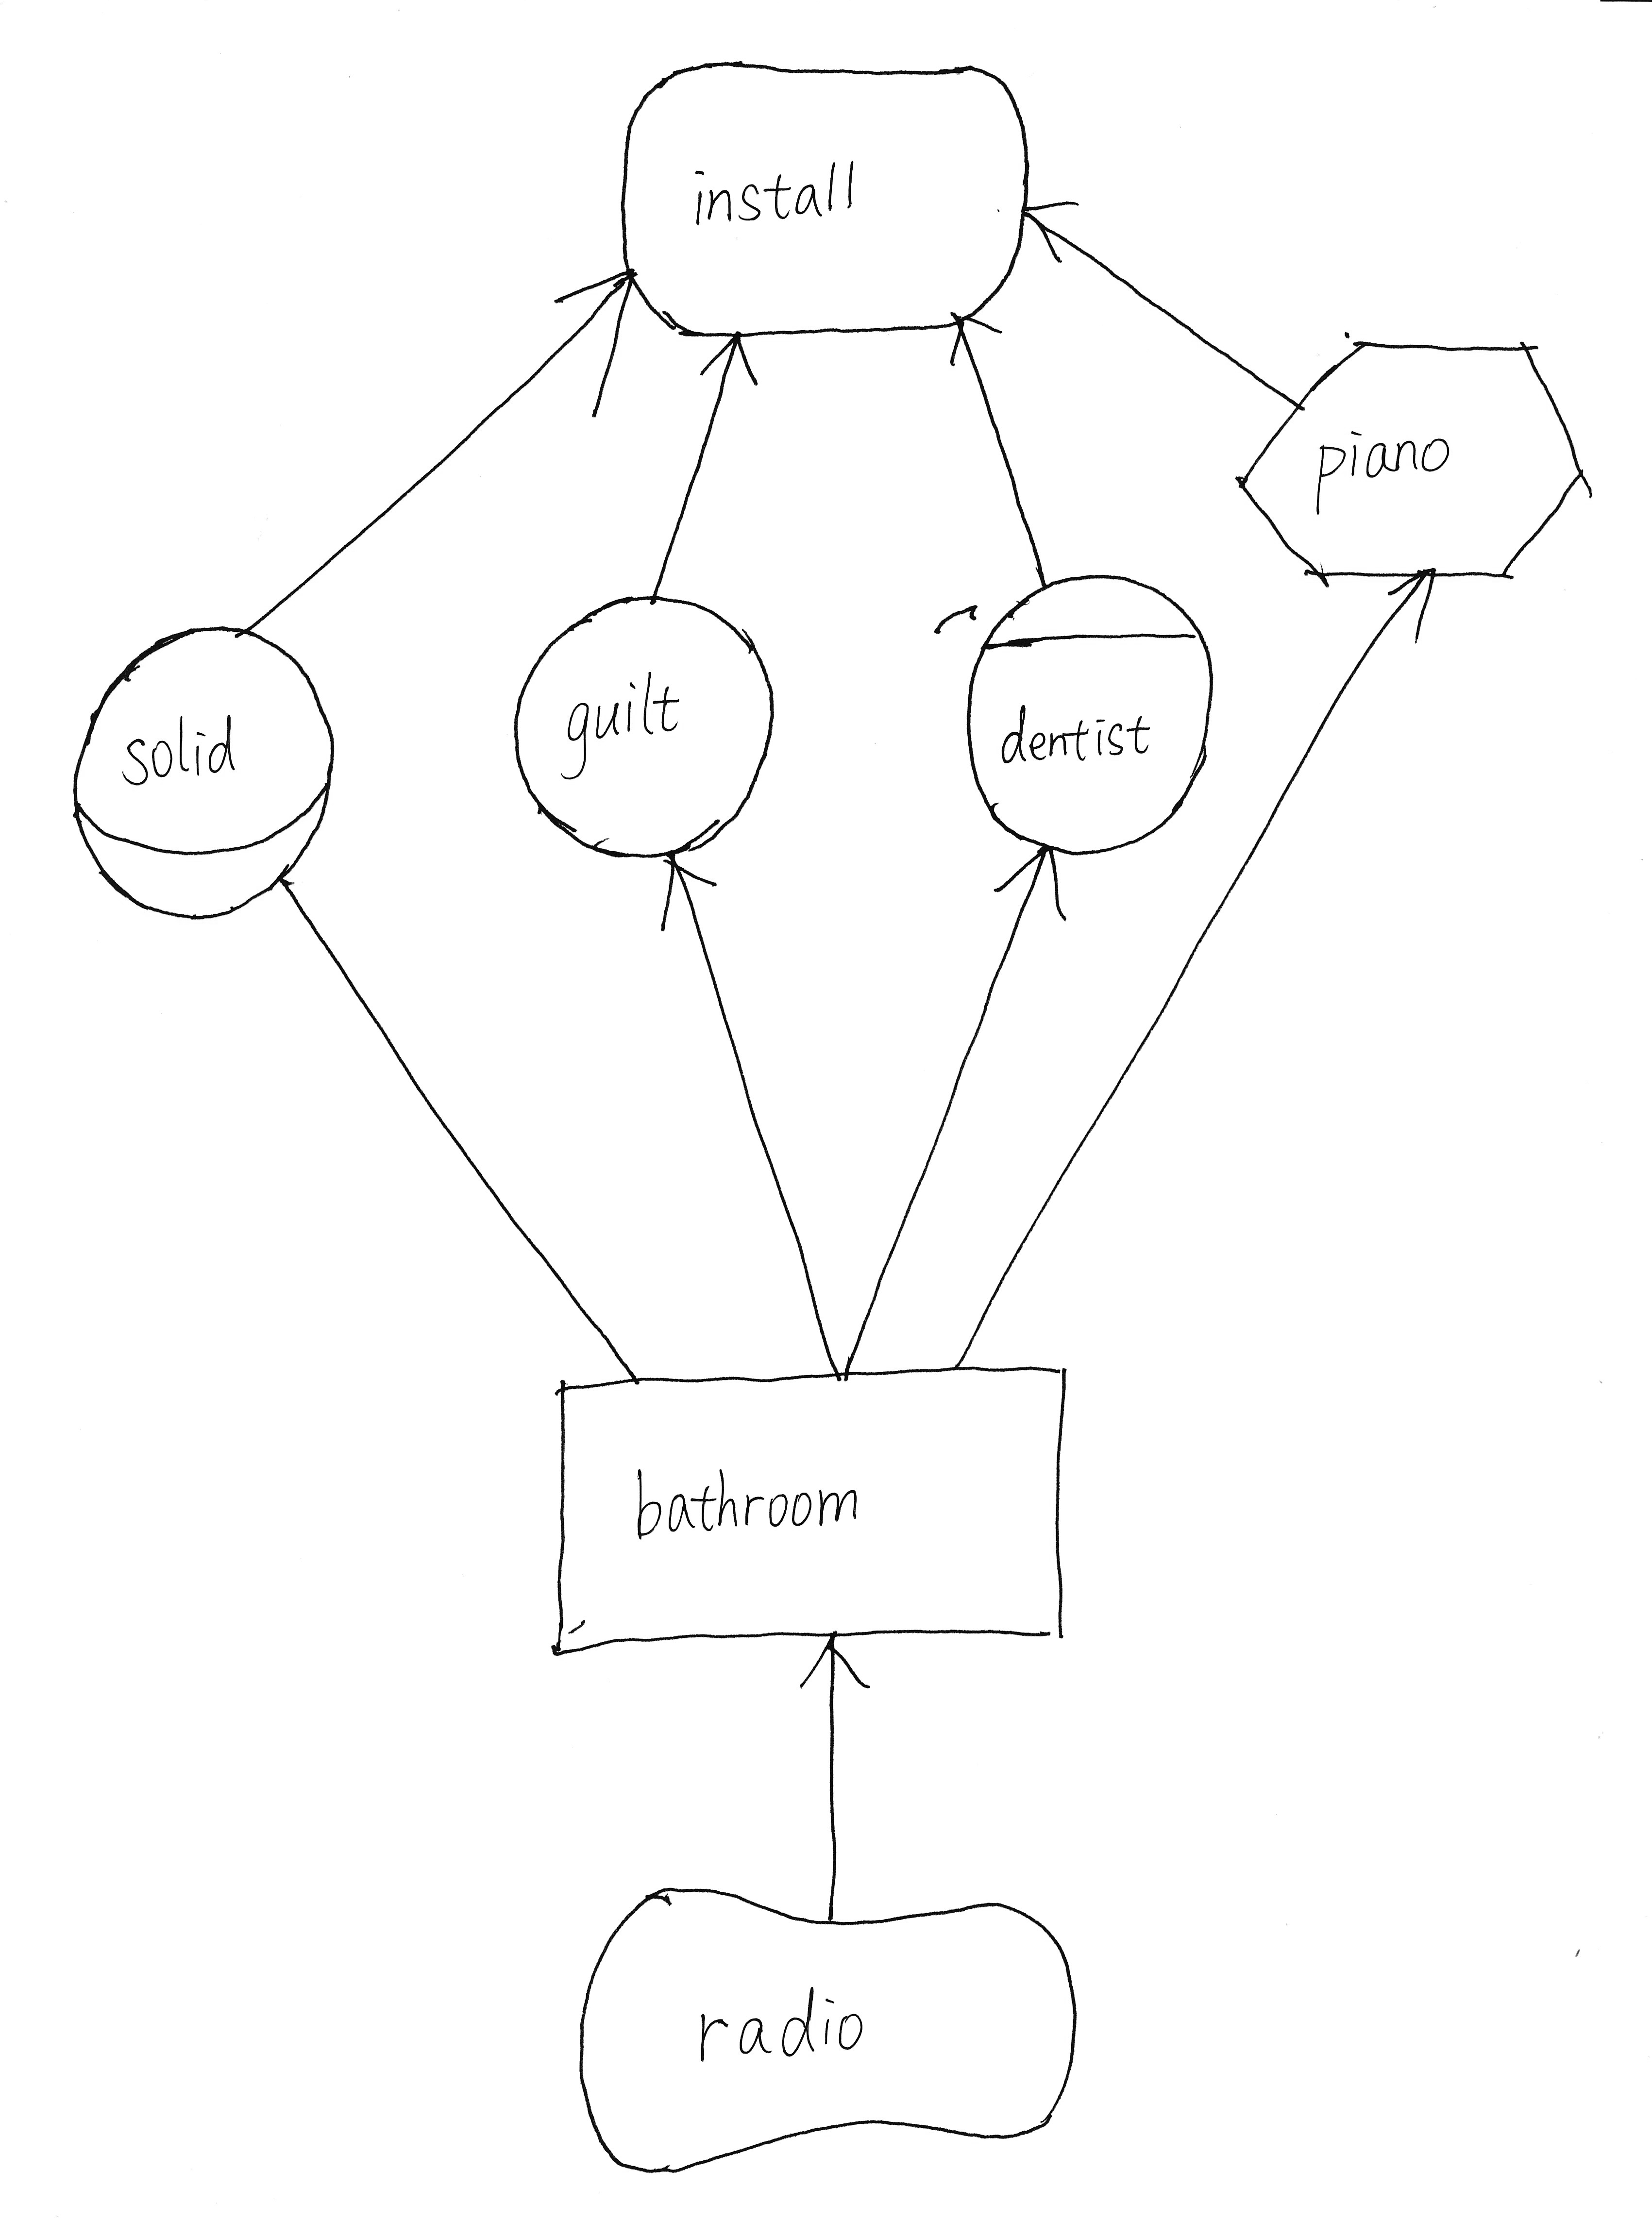actor: (496, 578, 786, 871)
agent: (941, 560, 1223, 871)
arrow: (557, 246, 649, 422), (1360, 543, 1466, 675), (975, 822, 1111, 921), (633, 836, 739, 949), (769, 1613, 888, 1710), (916, 286, 1020, 380), (1008, 179, 1097, 274), (678, 323, 770, 399)
quality: (557, 1861, 1104, 2191), (593, 38, 1050, 361)
resource: (512, 1346, 1114, 1674)
role: (50, 605, 351, 938)
task: (1220, 314, 1607, 609)
